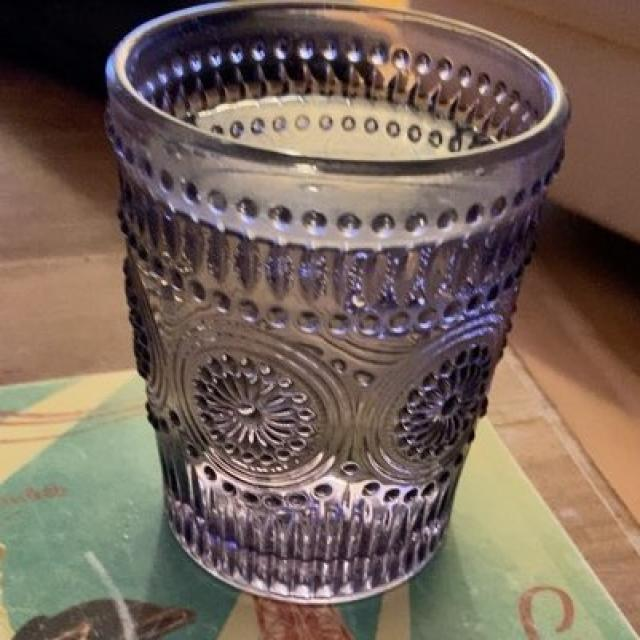water: (122, 33, 553, 575)
